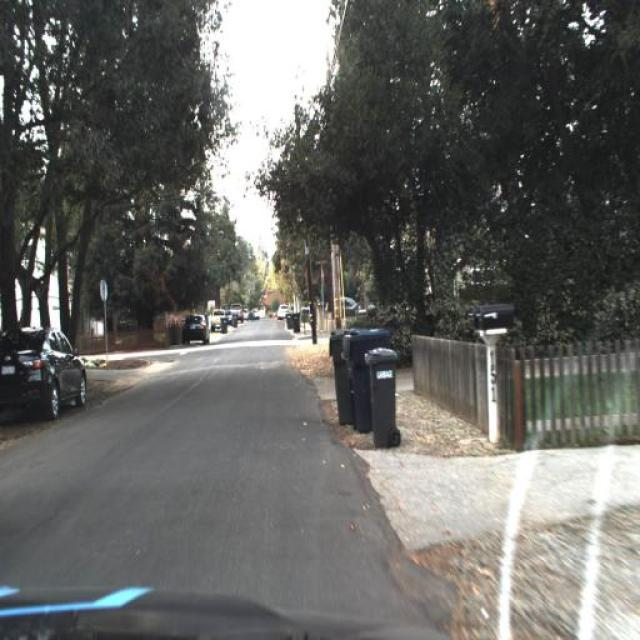car: (1, 322, 93, 418), (180, 308, 210, 348), (326, 292, 359, 316), (182, 315, 210, 343), (208, 307, 228, 331), (354, 302, 376, 318), (230, 302, 246, 323), (276, 304, 290, 318)
